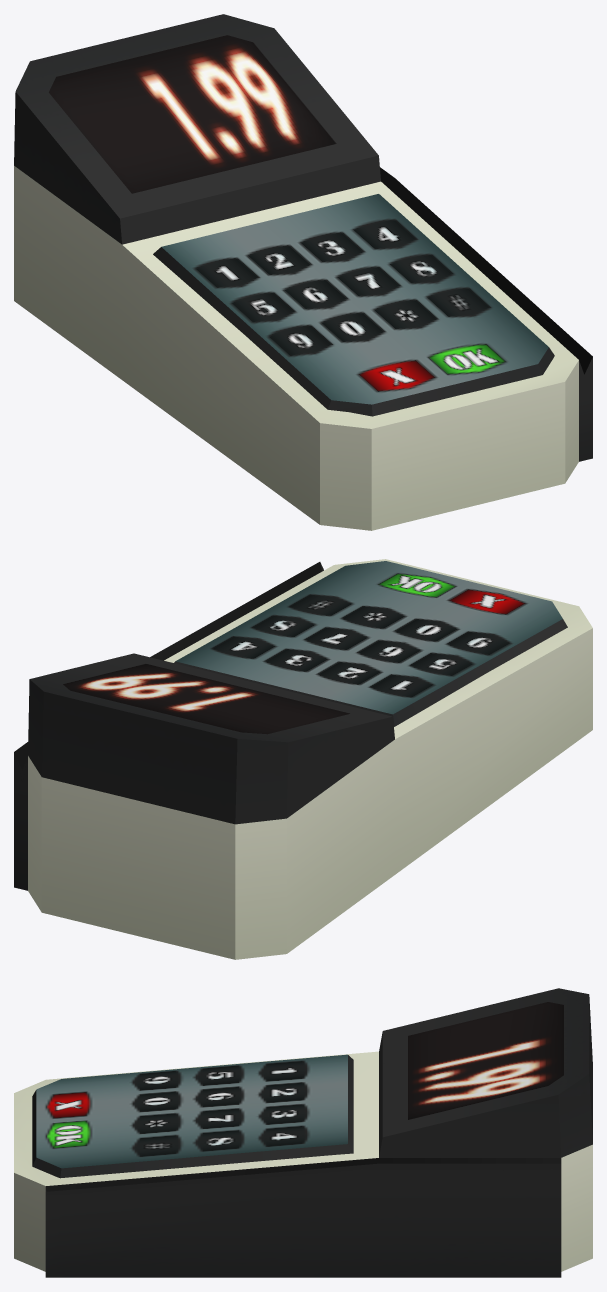
Rendered from Credit_Card_Machine.FBX.
The picture shows the model from 3 angles, top to bottom: view 1: azimuth 30°, elevation 25°; view 2: azimuth 150°, elevation 25°; view 3: azimuth 270°, elevation 25°; orthographic projection. The views are drawn at different scales.
Visible parts, largest first — view 1: Credit_Card_Machine; view 2: Credit_Card_Machine; view 3: Credit_Card_Machine.
Part boxes in pixels (x1,y1,x2,y2): Credit_Card_Machine: (14,14,592,530); Credit_Card_Machine: (14,559,592,959); Credit_Card_Machine: (14,988,592,1277).
Bounding box in the file's own units: 52.7 × 40.5 × 115.
